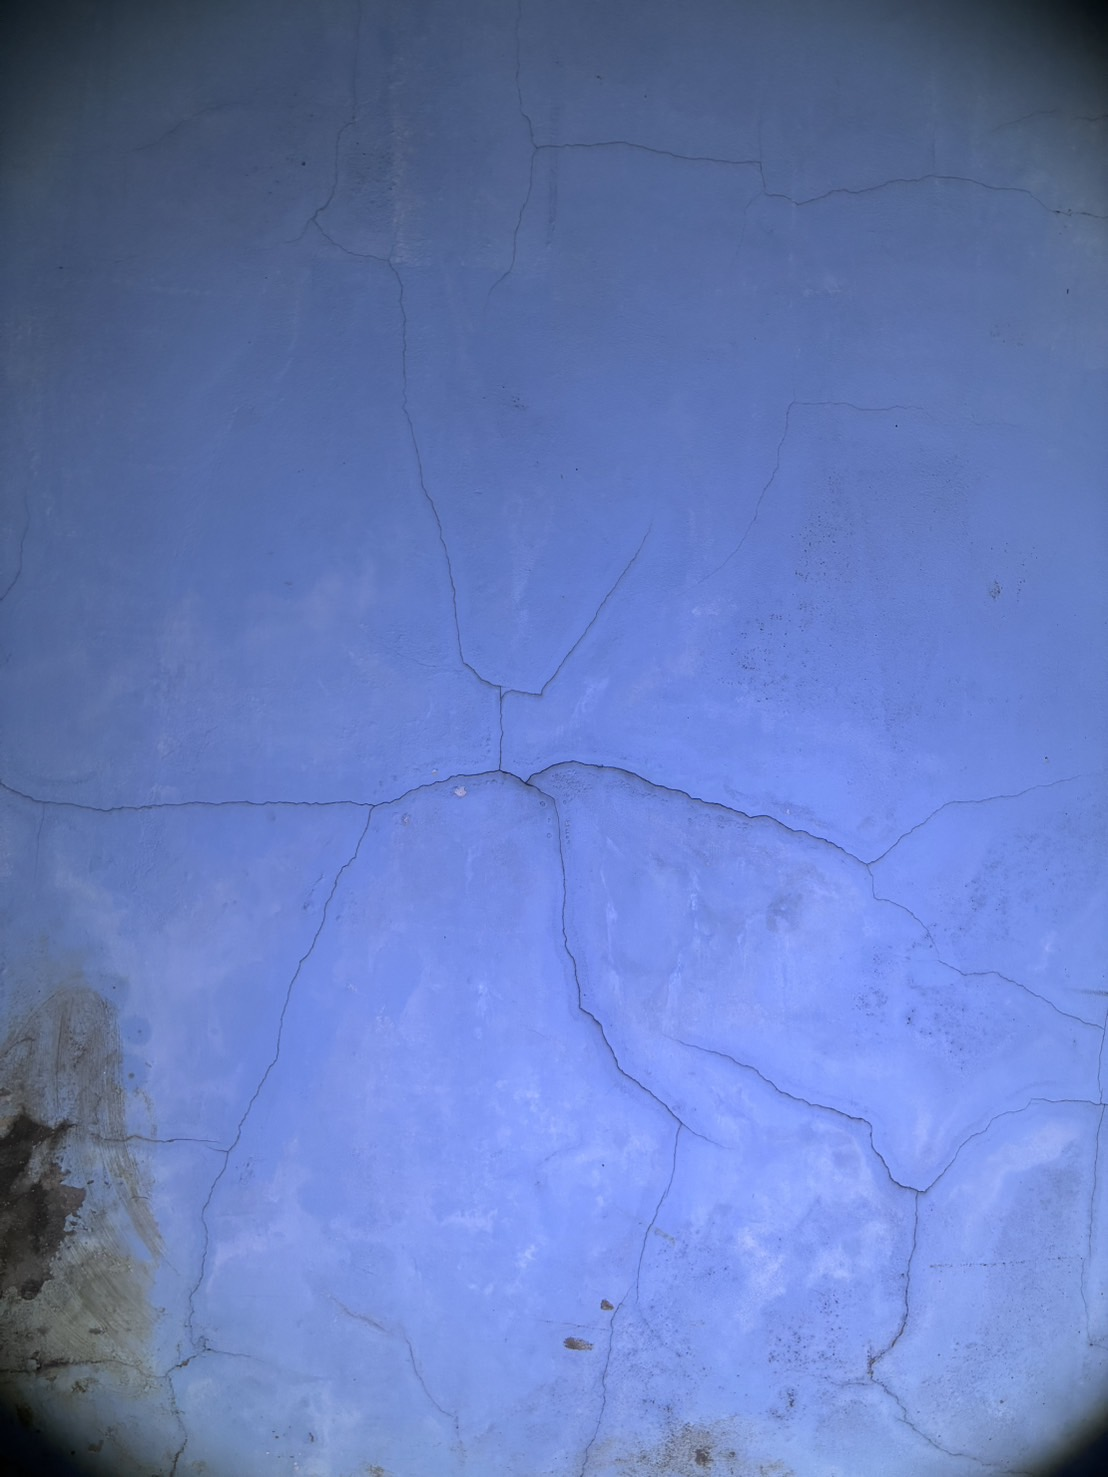Low: (5, 1, 1108, 1477)
